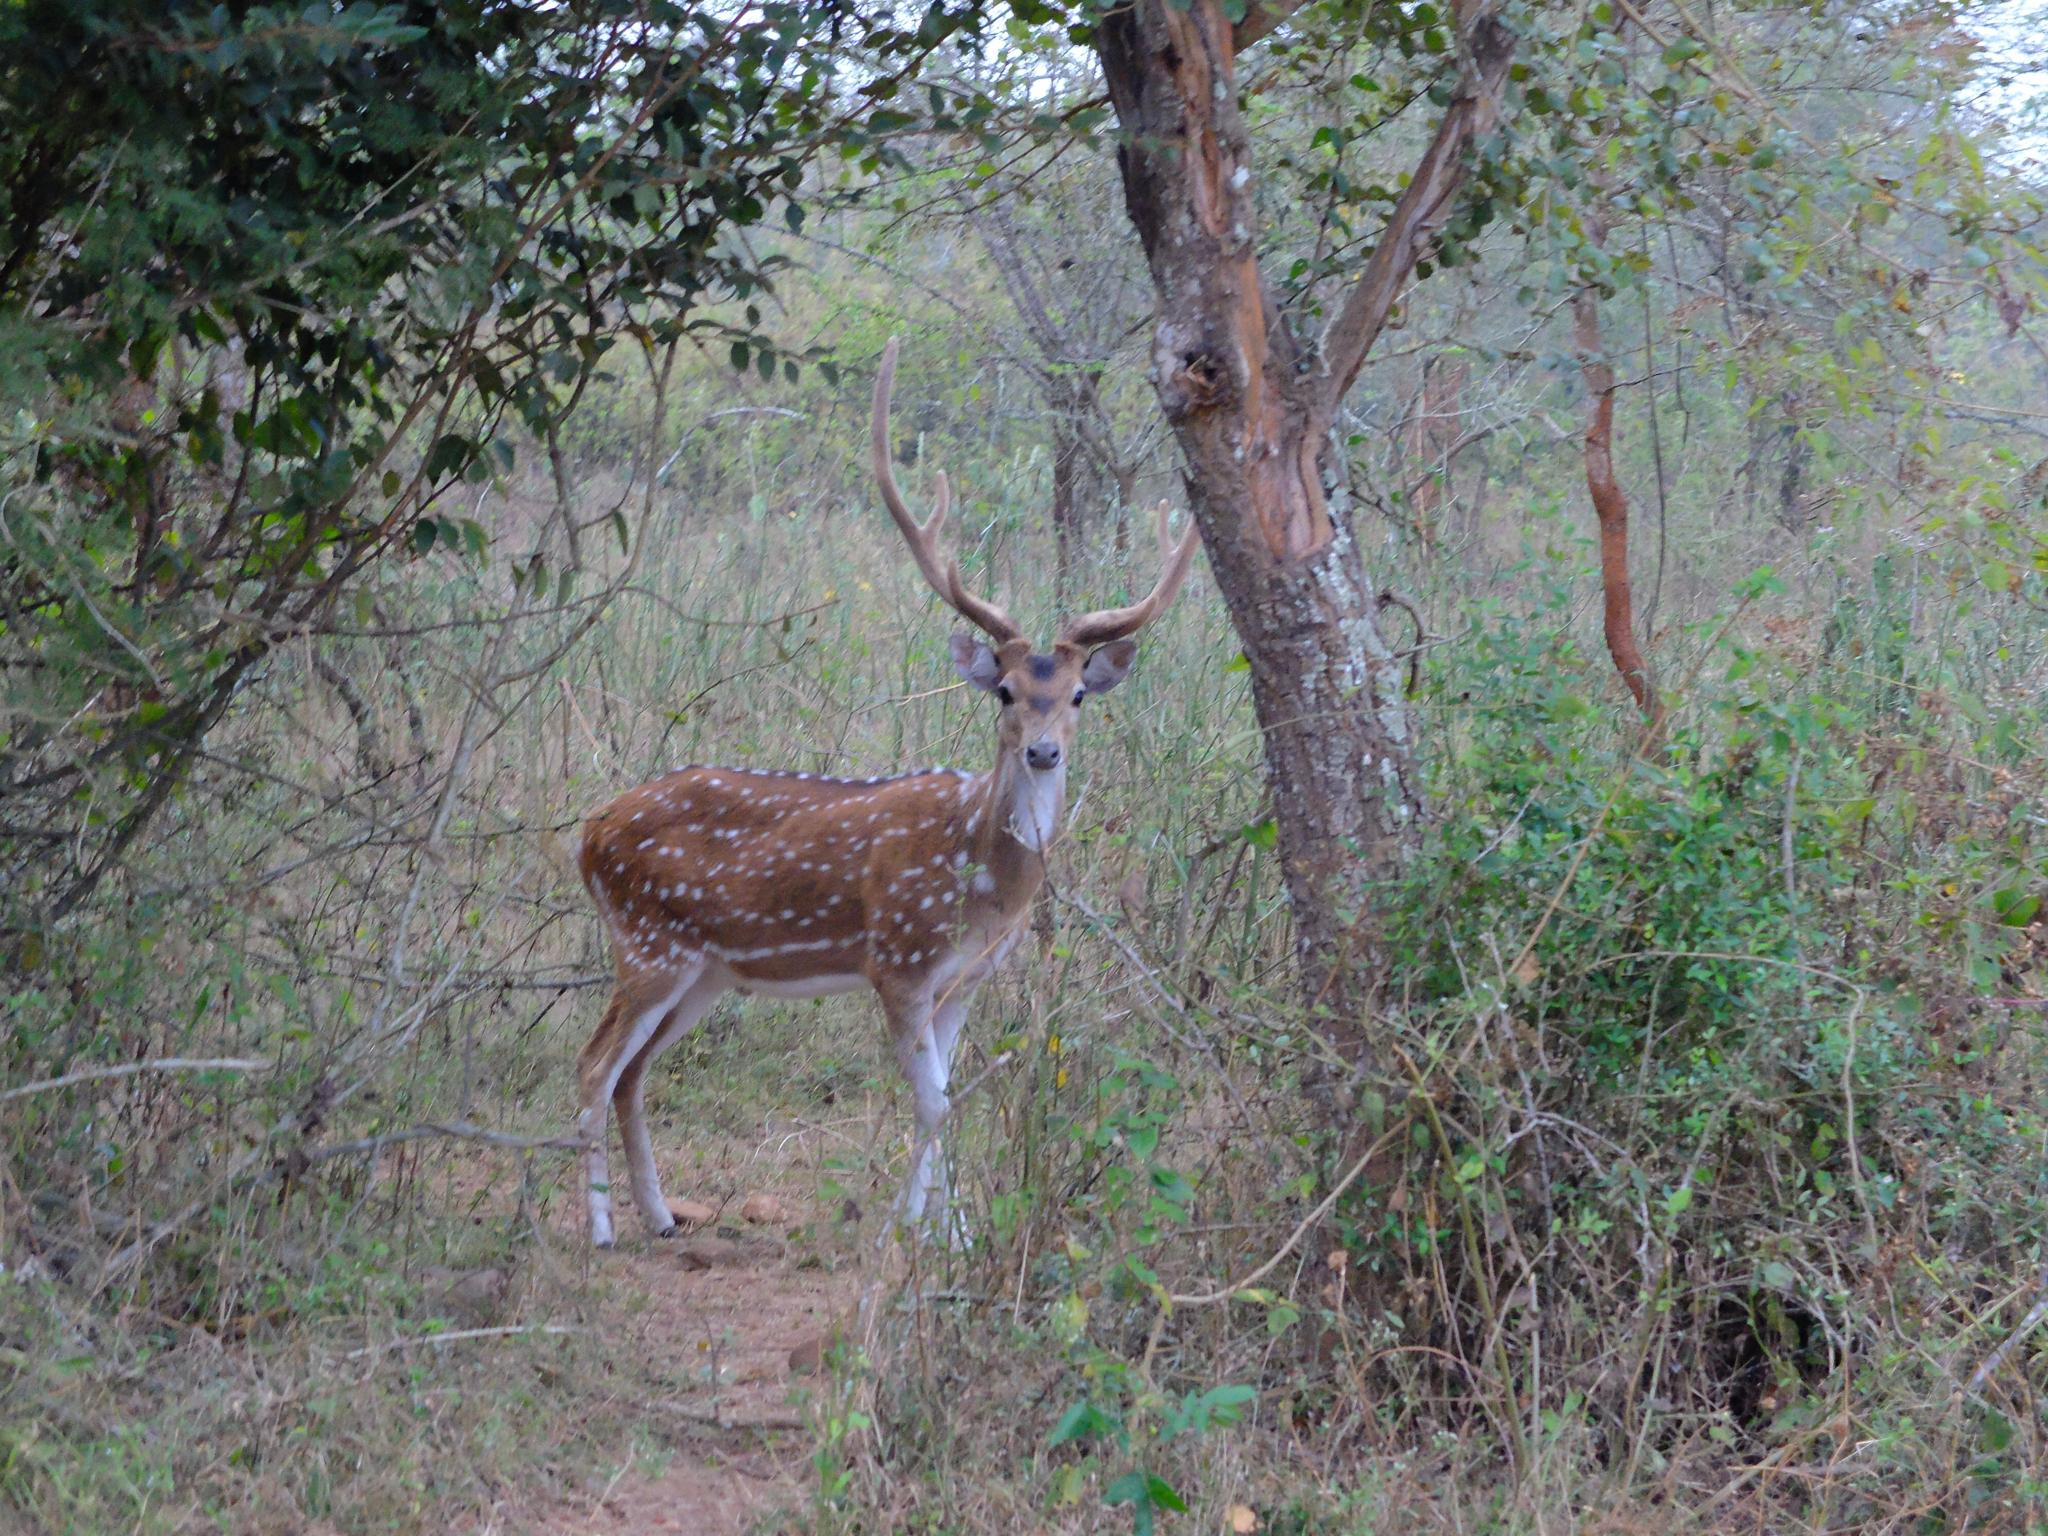Deer: (577, 358, 1198, 1246)
